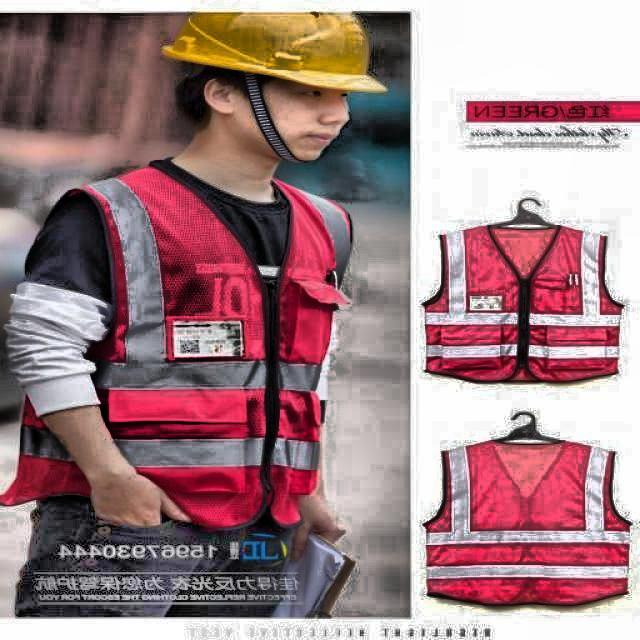safety_helmet: (168, 4, 388, 95)
safety_jacket: (1, 166, 352, 524), (434, 442, 631, 609), (426, 220, 626, 382)
